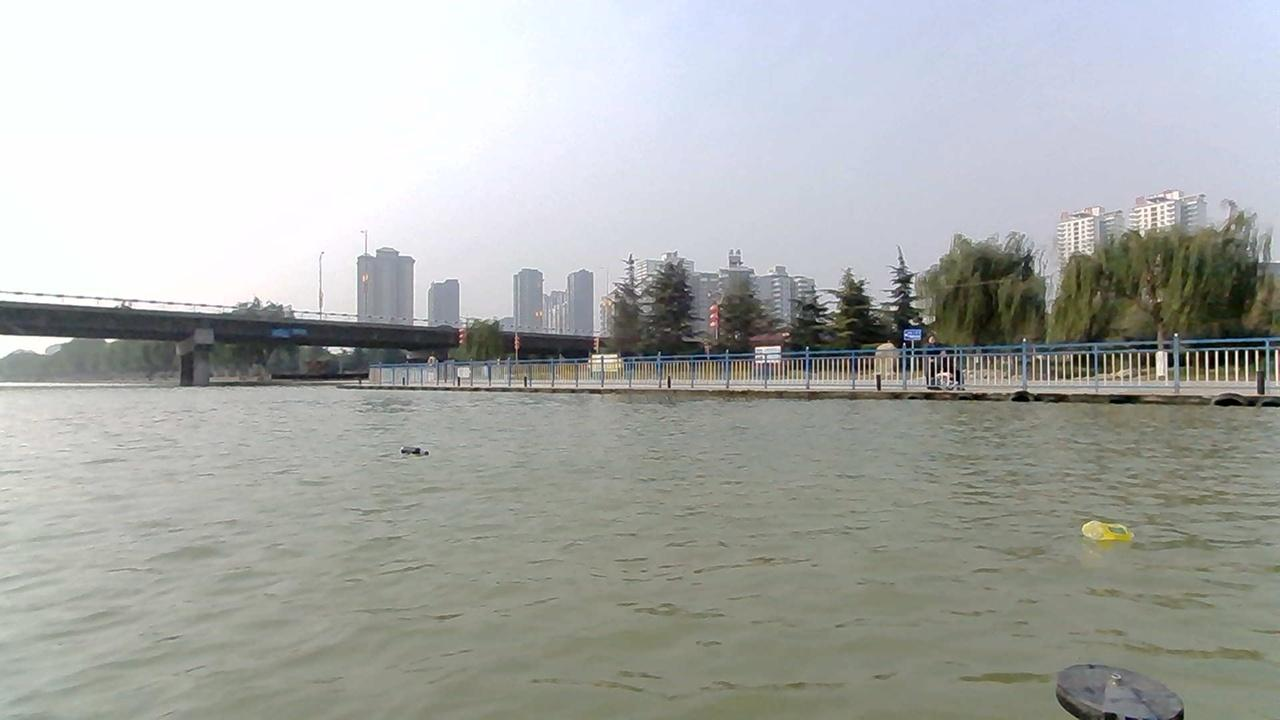bottle: (1082, 520, 1135, 539), (399, 445, 429, 455)
